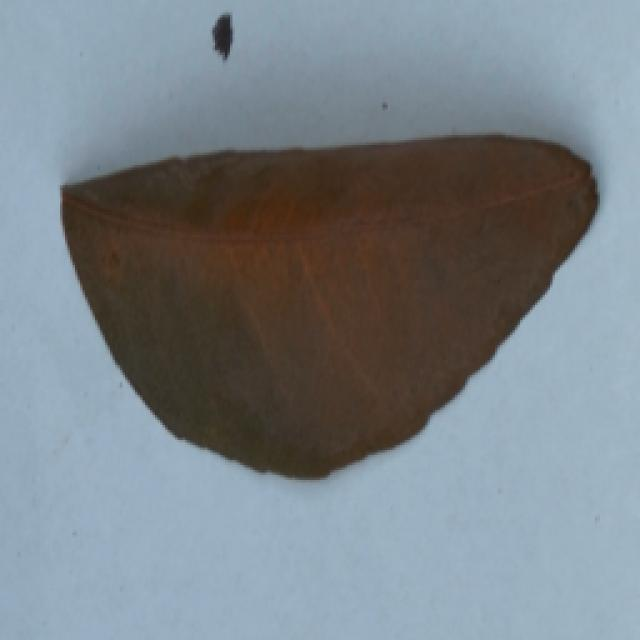greening: (49, 125, 595, 473)
